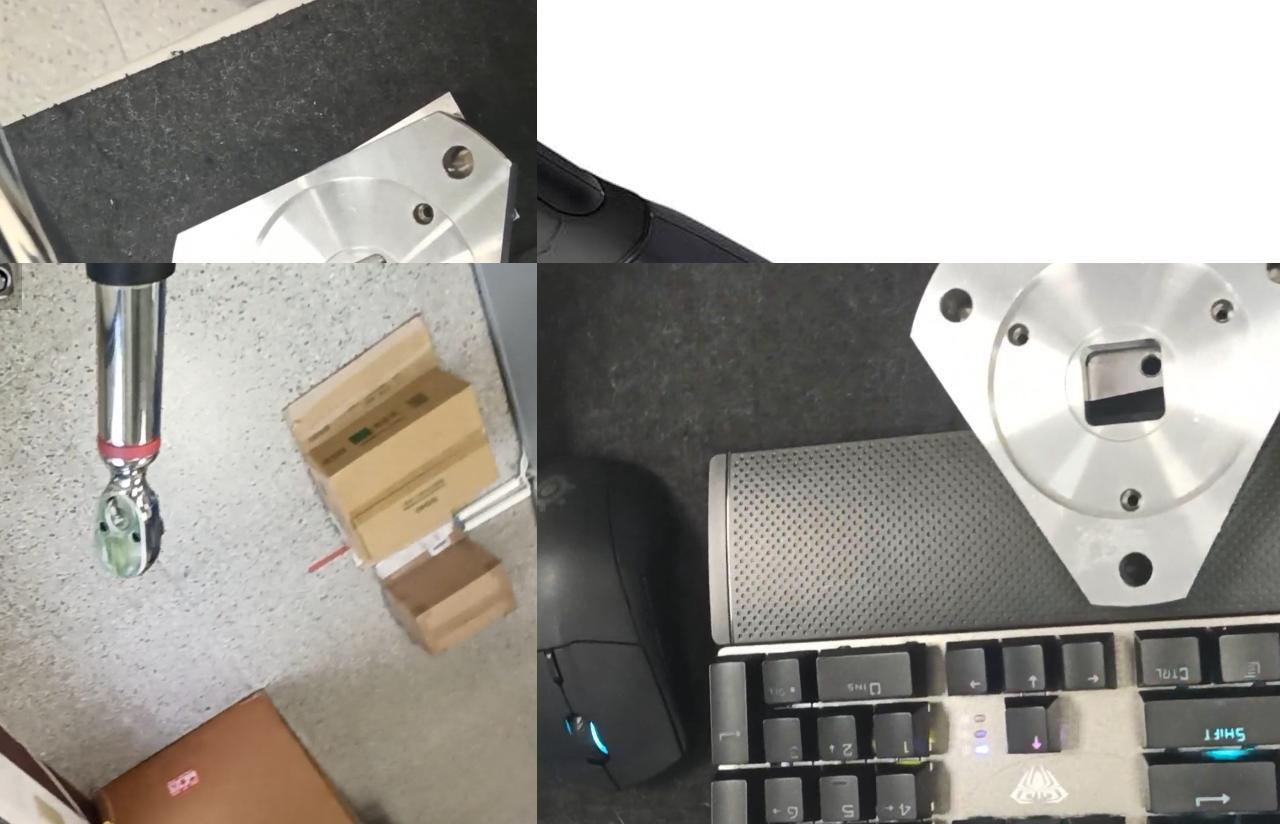Tool: (80, 452, 166, 580)
